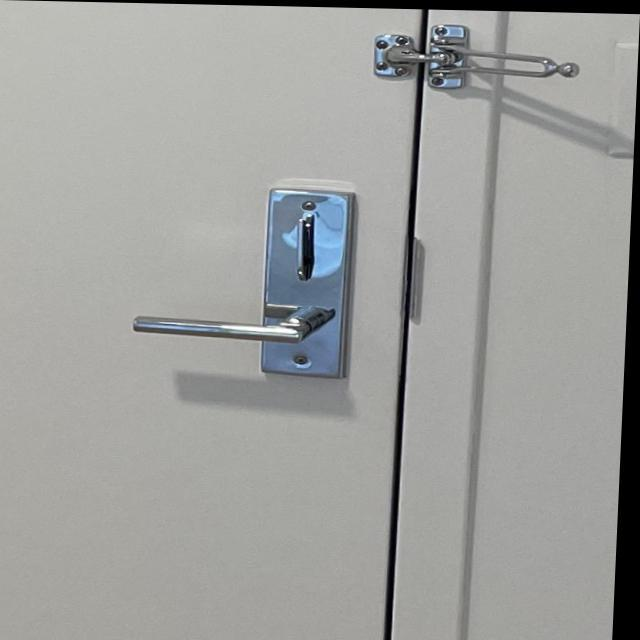door_handle: (121, 285, 364, 362)
